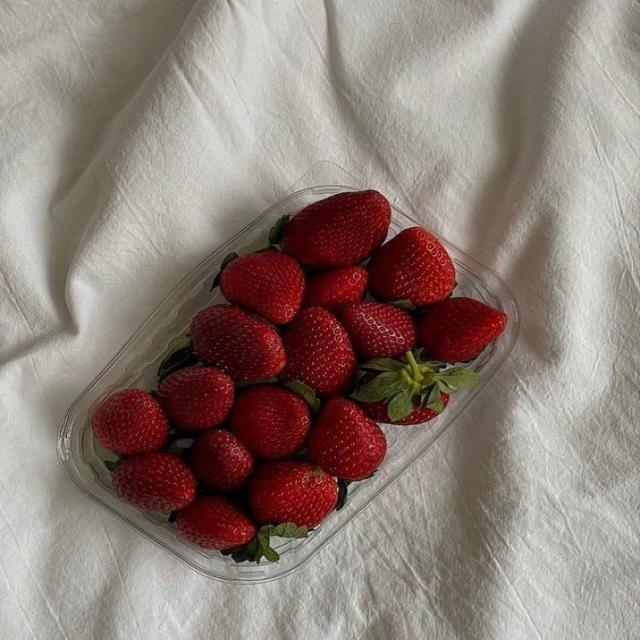strawberry: (353, 350, 478, 423), (282, 191, 390, 268), (191, 304, 284, 381), (281, 307, 356, 397), (369, 228, 455, 306), (308, 399, 386, 481), (221, 250, 305, 324), (248, 461, 338, 528), (230, 385, 310, 458), (418, 298, 507, 362), (92, 389, 169, 454), (113, 452, 196, 511), (158, 366, 233, 431), (175, 496, 256, 550), (341, 302, 416, 359), (189, 429, 253, 492), (303, 266, 367, 313), (361, 400, 440, 425)
